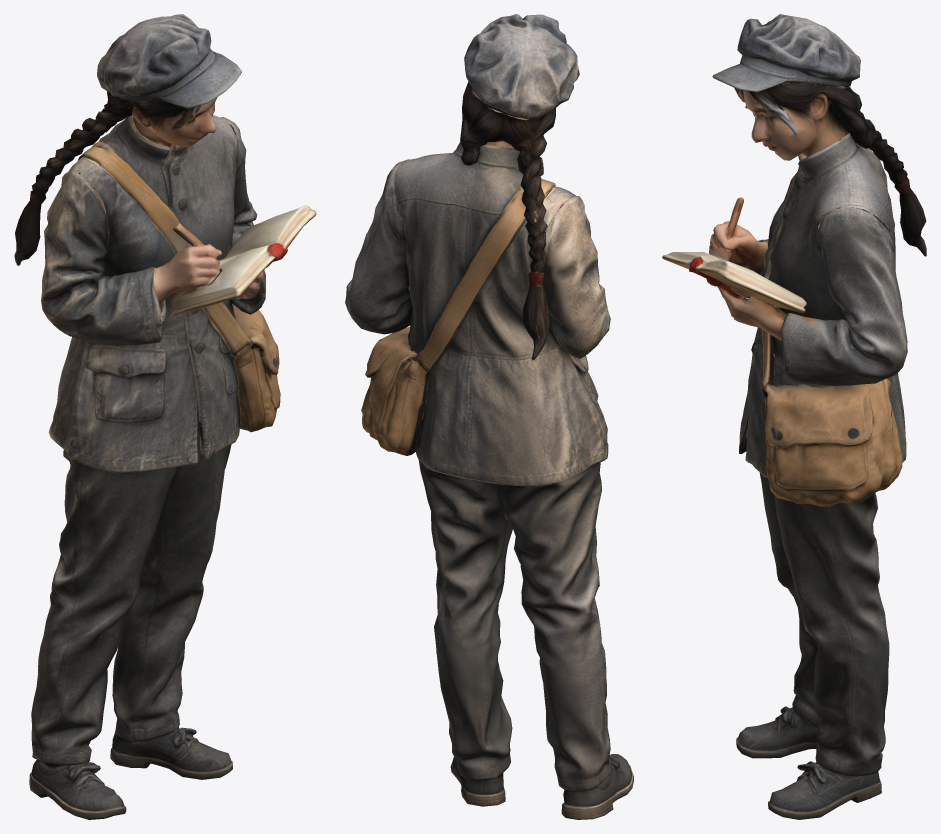
File: journal-recorder.glb
3 renders of one model, left to right at view 1: azimuth 30°, elevation 25°; view 2: azimuth 150°, elevation 25°; view 3: azimuth 270°, elevation 25°, orthographic. The views are drawn at different scales.
Parts seen in each view (by area): view 1: Supplied returned-person; view 2: Supplied returned-person; view 3: Supplied returned-person.
Boxes of the visible parts, x1,y1,x2,y2 form: Supplied returned-person: [14, 14, 316, 819]; Supplied returned-person: [345, 14, 633, 819]; Supplied returned-person: [662, 14, 926, 819].
Bounding box in the file's own units: 0.542 × 1.64 × 0.5095.
Materials: 13 (13 with a texture image).
